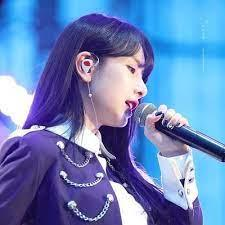earphone: (80, 57, 94, 73)
